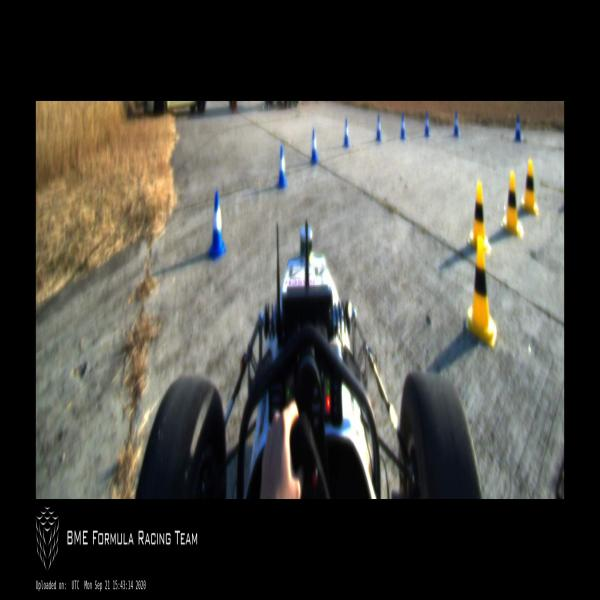blue_cone: (209, 194, 226, 257), (277, 147, 287, 187), (311, 130, 318, 161), (514, 114, 522, 140), (343, 120, 350, 146), (376, 115, 382, 140), (453, 113, 460, 134), (424, 112, 430, 135), (400, 115, 406, 137)
yellow_cone: (466, 238, 497, 345), (469, 182, 491, 253), (502, 173, 524, 236), (521, 158, 540, 215)
